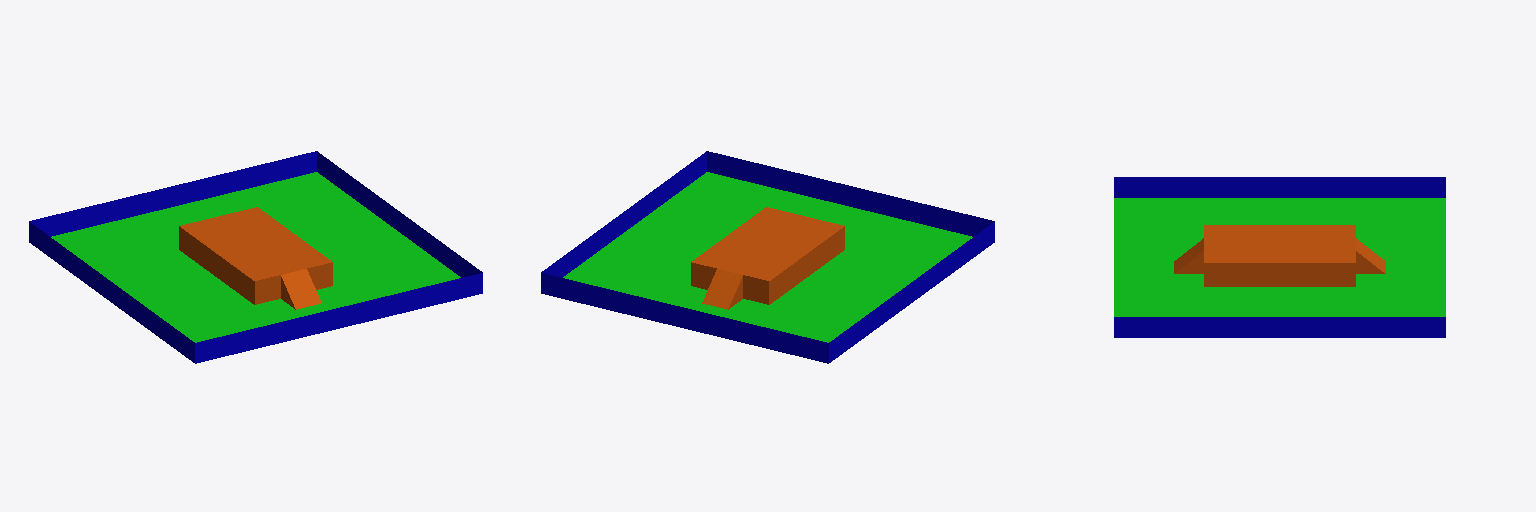
Rendered from map3.obj.
3 views of the same model, side by side, from view 1: azimuth 30°, elevation 25°; view 2: azimuth 150°, elevation 25°; view 3: azimuth 270°, elevation 25° (orthographic).
Visible parts, largest first — view 1: Plane; view 2: Plane; view 3: Plane.
Part boxes in pixels (bbox=[...]): Plane: bbox=[29, 151, 482, 363]; Plane: bbox=[541, 151, 994, 363]; Plane: bbox=[1114, 177, 1445, 337].
Size of the model in its own units: 20 by 1.58 by 20.